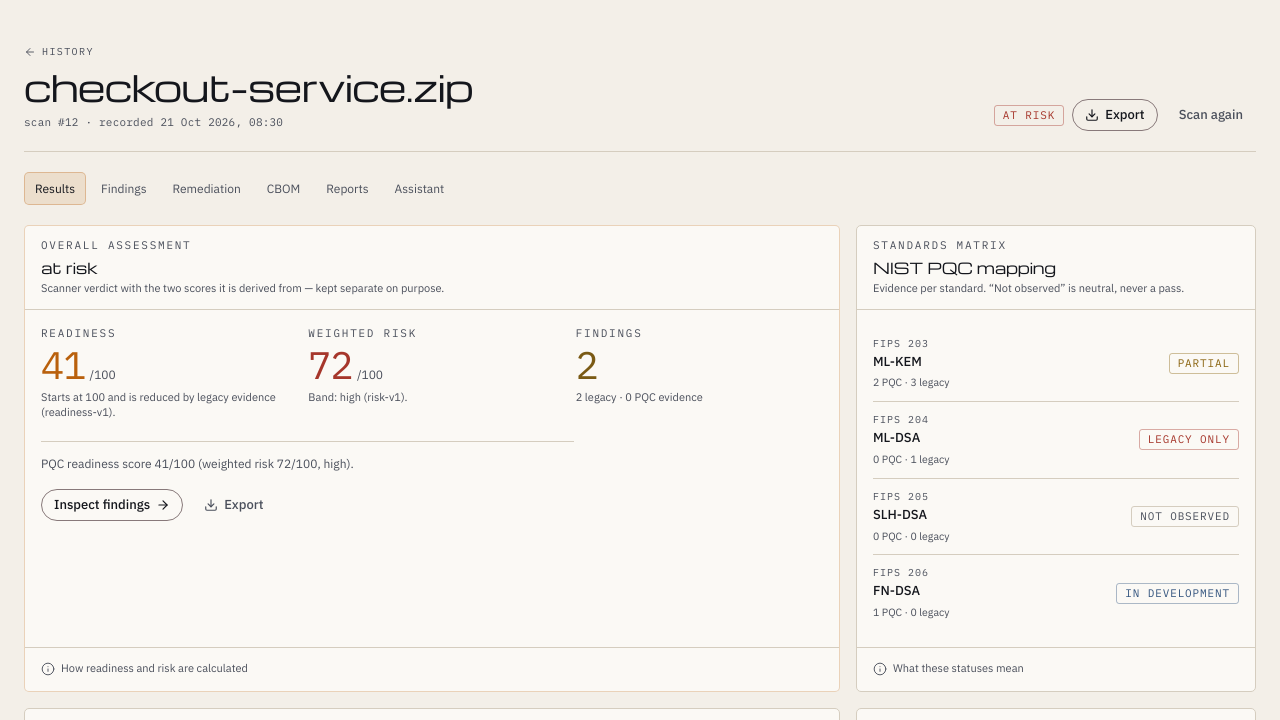
it: ScanResultsPage › opens the assessment methodology panel with the reported formula version
Click the button "How readiness and risk are calculated" at (144, 669), box [41,656,248,682]
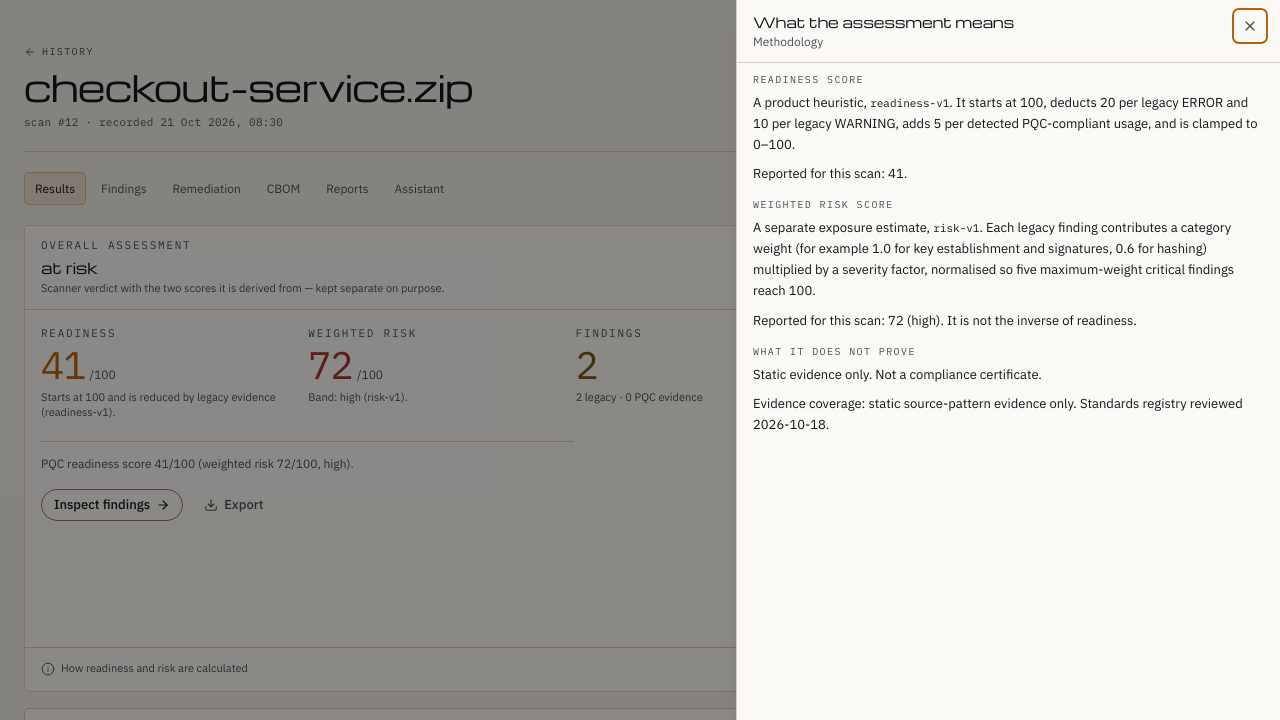
expect the text "starts at 100" is shown: met, box [949,94,1182,111]
expect the text "readiness-v1" is shown: met, box [870,96,949,110]
expect the text "risk-v1" is shown: met, box [933,221,979,235]
